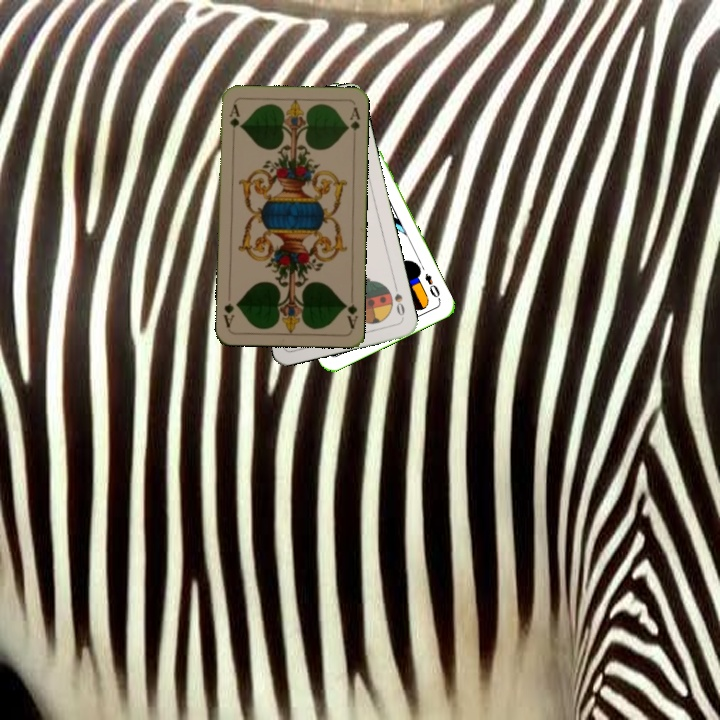EO: (421, 269, 443, 303)
GA: (340, 291, 360, 331), (225, 100, 243, 131)
SO: (390, 281, 407, 318)
